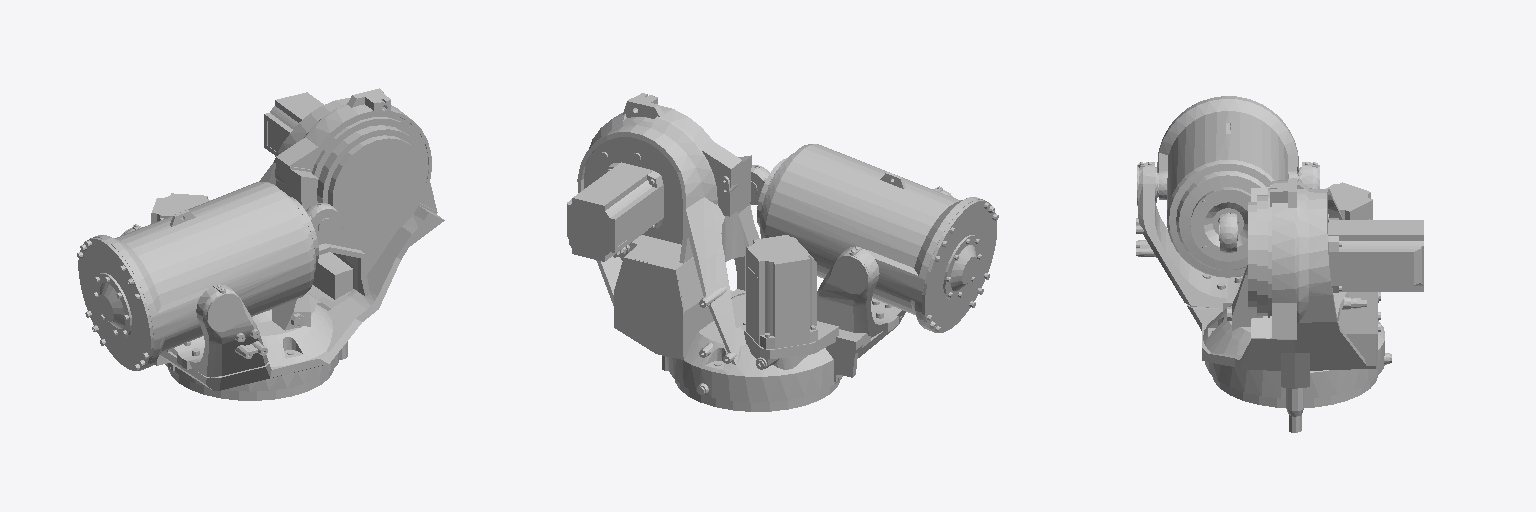
3 renders of one model, left to right at view 1: azimuth 30°, elevation 25°; view 2: azimuth 150°, elevation 25°; view 3: azimuth 270°, elevation 25°, orthographic.
Visible parts, largest first — view 1: LINK01:MeshBody1 LINK_01 rawMesh, LINK_01 rawMesh CYLINDER2:MeshBody1, LINK_01 rawMesh ROD1:MeshBody1; view 2: LINK01:MeshBody1 LINK_01 rawMesh, LINK_01 rawMesh CYLINDER2:MeshBody1; view 3: LINK01:MeshBody1 LINK_01 rawMesh, LINK_01 rawMesh CYLINDER2:MeshBody1, LINK_01 rawMesh ROD1:MeshBody1.
Part boxes in pixels (bbox=[...]): LINK01:MeshBody1 LINK_01 rawMesh: bbox=[121, 88, 444, 400]; LINK_01 rawMesh CYLINDER2:MeshBody1: bbox=[77, 182, 318, 370]; LINK_01 rawMesh ROD1:MeshBody1: bbox=[306, 203, 340, 242]; LINK01:MeshBody1 LINK_01 rawMesh: bbox=[567, 93, 953, 411]; LINK_01 rawMesh CYLINDER2:MeshBody1: bbox=[757, 144, 998, 332]; LINK01:MeshBody1 LINK_01 rawMesh: bbox=[1136, 162, 1423, 432]; LINK_01 rawMesh CYLINDER2:MeshBody1: bbox=[1157, 96, 1298, 277]; LINK_01 rawMesh ROD1:MeshBody1: bbox=[1218, 212, 1237, 252].
Bounding box in the file's own units: 119 × 82.61 × 83.8.